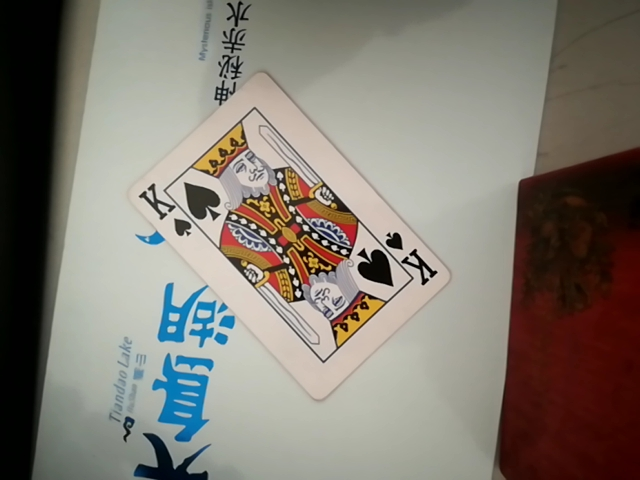ht k: (135, 69, 457, 388)
